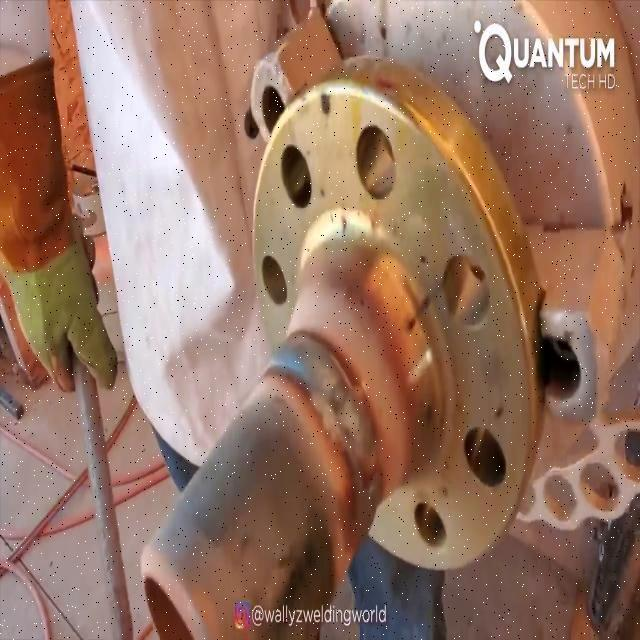Good Welding: (267, 331, 382, 553)
